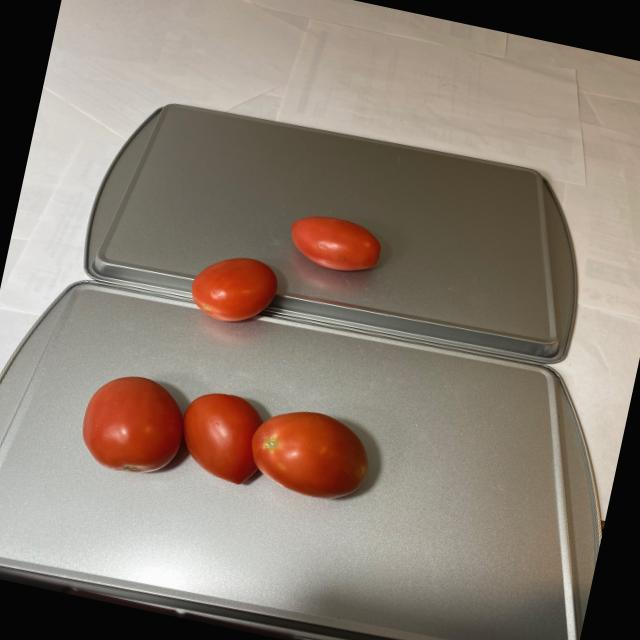tomato: (68, 361, 402, 526), (184, 192, 384, 350)
